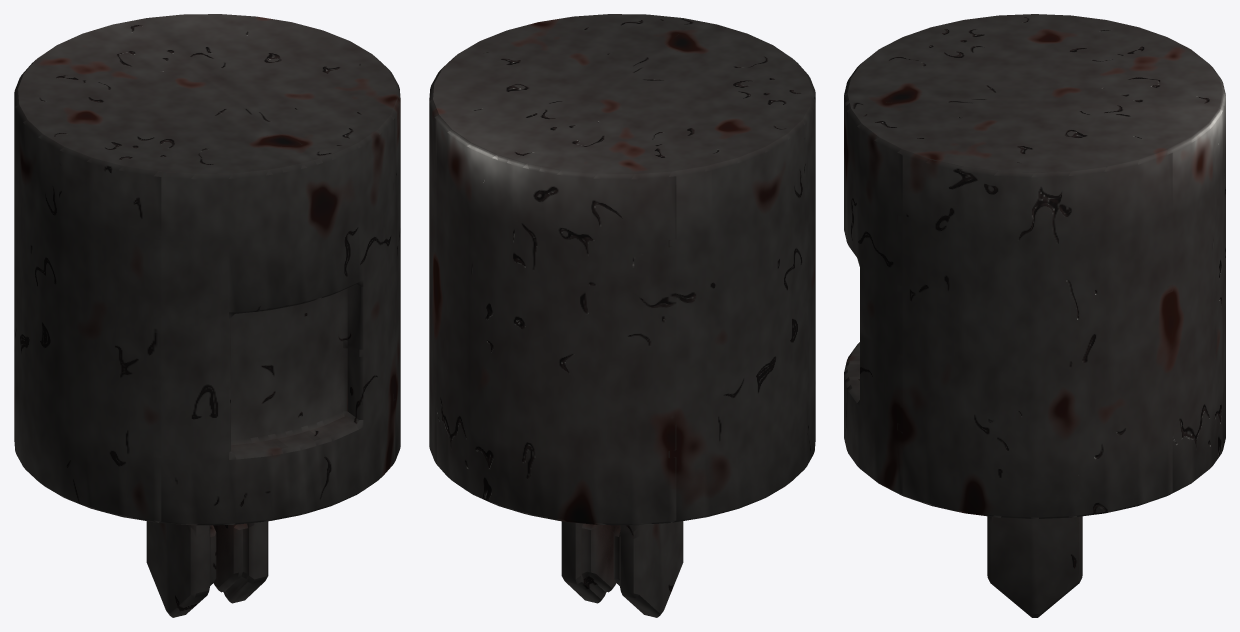
Rendered from body.dae.
3 renders of one model, left to right at view 1: azimuth 30°, elevation 25°; view 2: azimuth 150°, elevation 25°; view 3: azimuth 270°, elevation 25°, orthographic.
Visible parts, largest first — view 1: Cylinder_0; view 2: Cylinder_0; view 3: Cylinder_0.
Boxes of the visible parts, <box> form: Cylinder_0: <box>14,14,400,617</box>; Cylinder_0: <box>429,14,815,617</box>; Cylinder_0: <box>844,14,1225,617</box>.
Size of the model in its own units: 2 by 2 by 2.93.
1 material, 1 textured.
